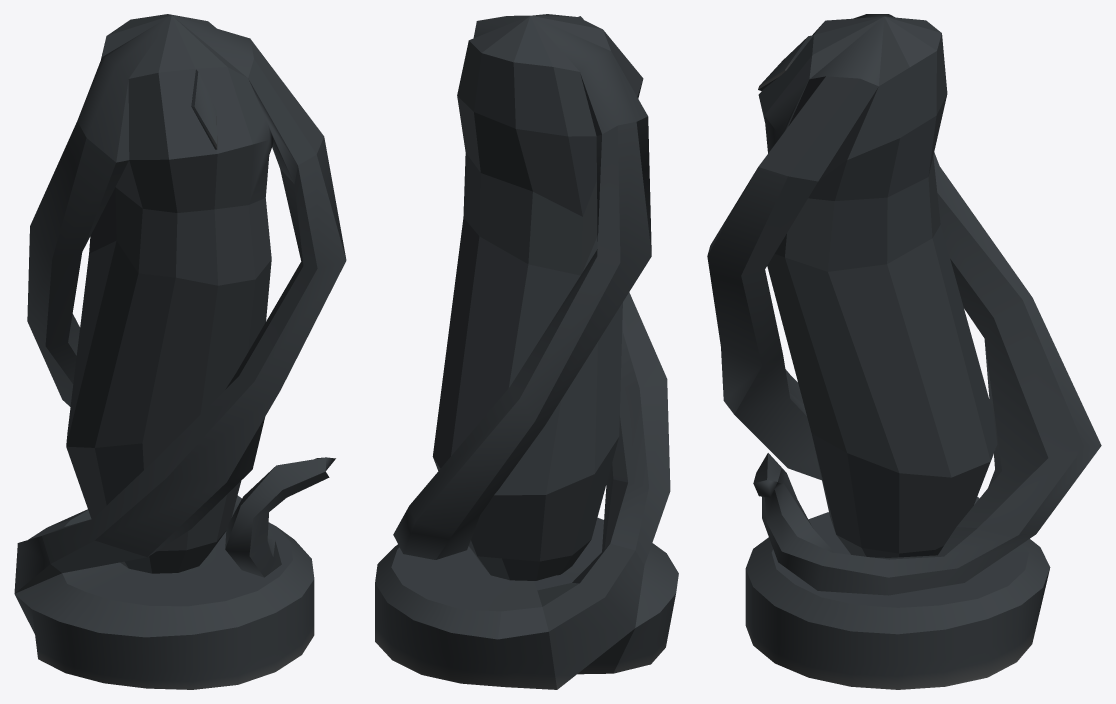
Rendered from Idele_water.fbx.
The picture shows the model from 3 angles, left to right: view 1: azimuth 30°, elevation 25°; view 2: azimuth 150°, elevation 25°; view 3: azimuth 270°, elevation 25°; orthographic projection.
Parts seen in each view (by area): view 1: Idele_water; view 2: Idele_water; view 3: Idele_water.
Part boxes in pixels (<box>): Idele_water: <box>14,14,346,689</box>; Idele_water: <box>375,14,678,689</box>; Idele_water: <box>707,14,1101,689</box>.
Bounding box in the file's own units: 0.1847 × 0.4112 × 0.2406.
1 material, 1 textured.
